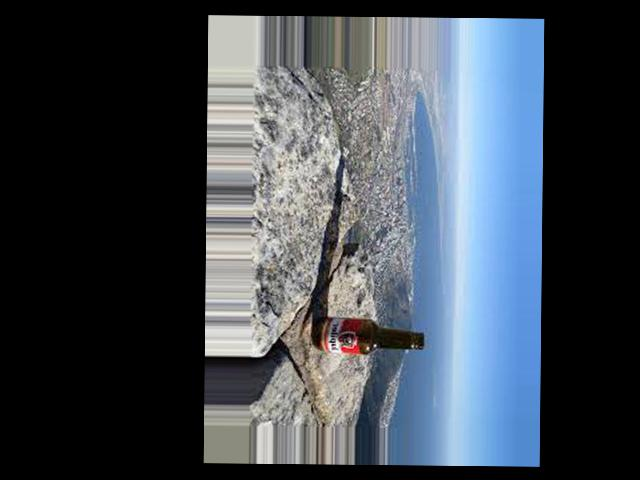beer: (315, 317, 425, 355)
